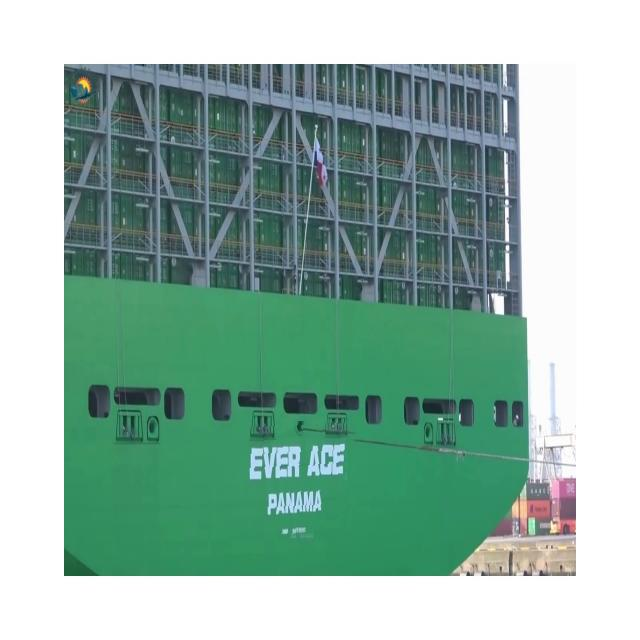OCR: (236, 422, 356, 544)
